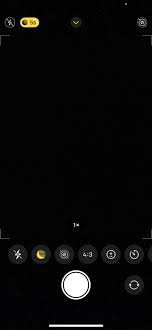camera: (60, 266, 93, 301)
